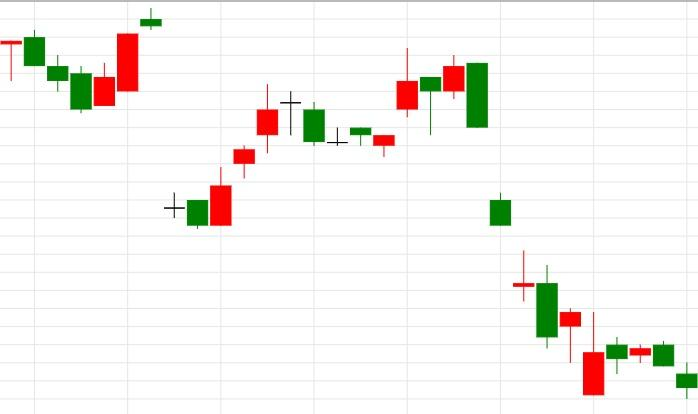evening_star_fall: (186, 84, 325, 229)
three_white_soldiers_rise: (141, 7, 278, 229)
